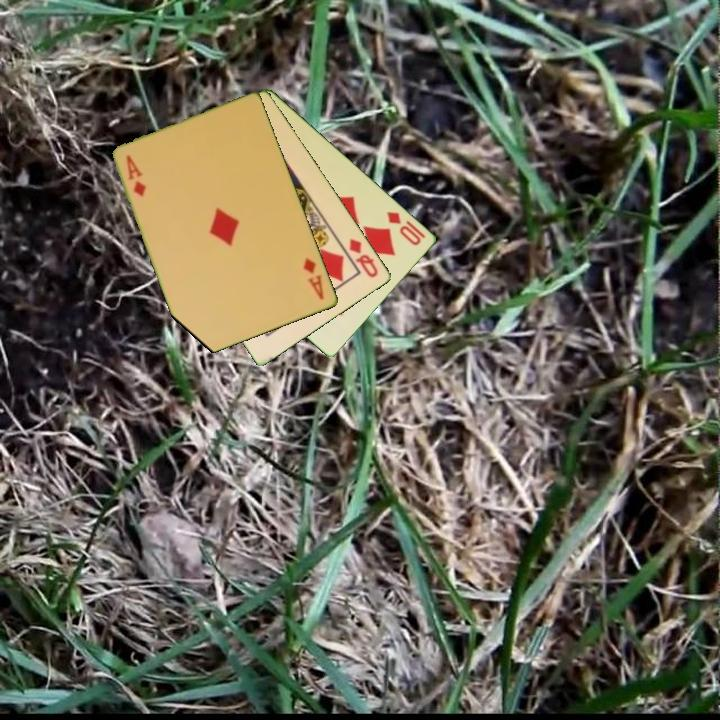10d: (383, 208, 429, 248)
Ad: (300, 254, 327, 303), (123, 152, 150, 200)
Qd: (346, 235, 382, 281)
